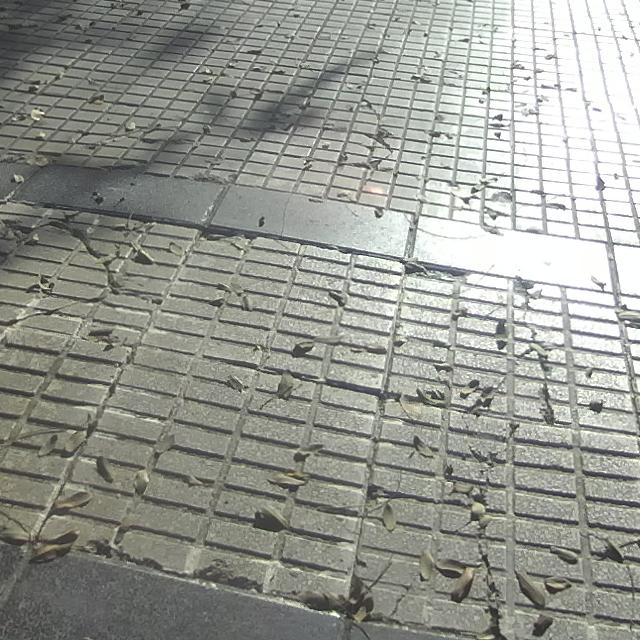calcada_quebrada: (0, 200, 124, 293), (88, 536, 192, 587), (0, 293, 111, 332), (472, 542, 511, 640), (191, 555, 267, 599), (399, 256, 467, 284), (338, 151, 395, 184), (534, 356, 560, 427), (511, 273, 544, 324), (194, 225, 252, 250), (467, 445, 510, 477), (352, 122, 394, 151), (355, 99, 384, 122), (483, 185, 514, 205)
